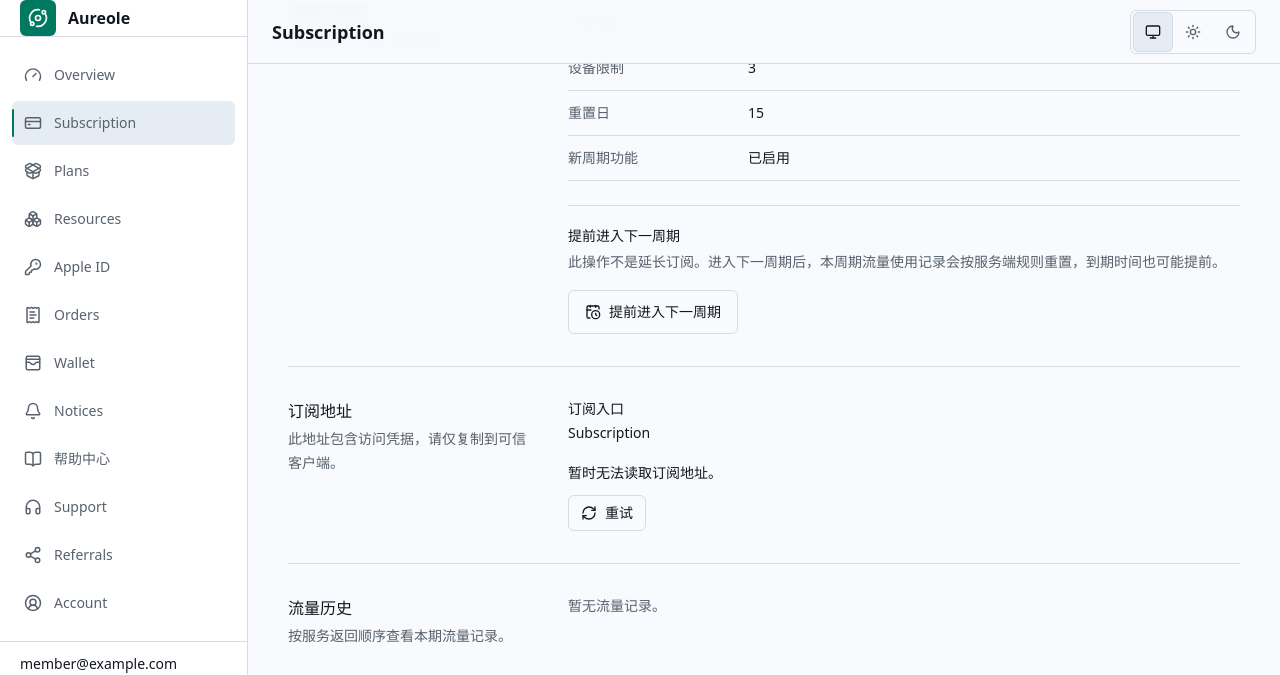
Test: Subscription page › keeps overview available when access fails and retries only access
(page scrolled)
Expected: the text "暂时无法读取订阅地址。" is shown, [568,463,722,482]
Click the button "重试". click: {"x": 607, "y": 513}
box: [568,495,646,531]
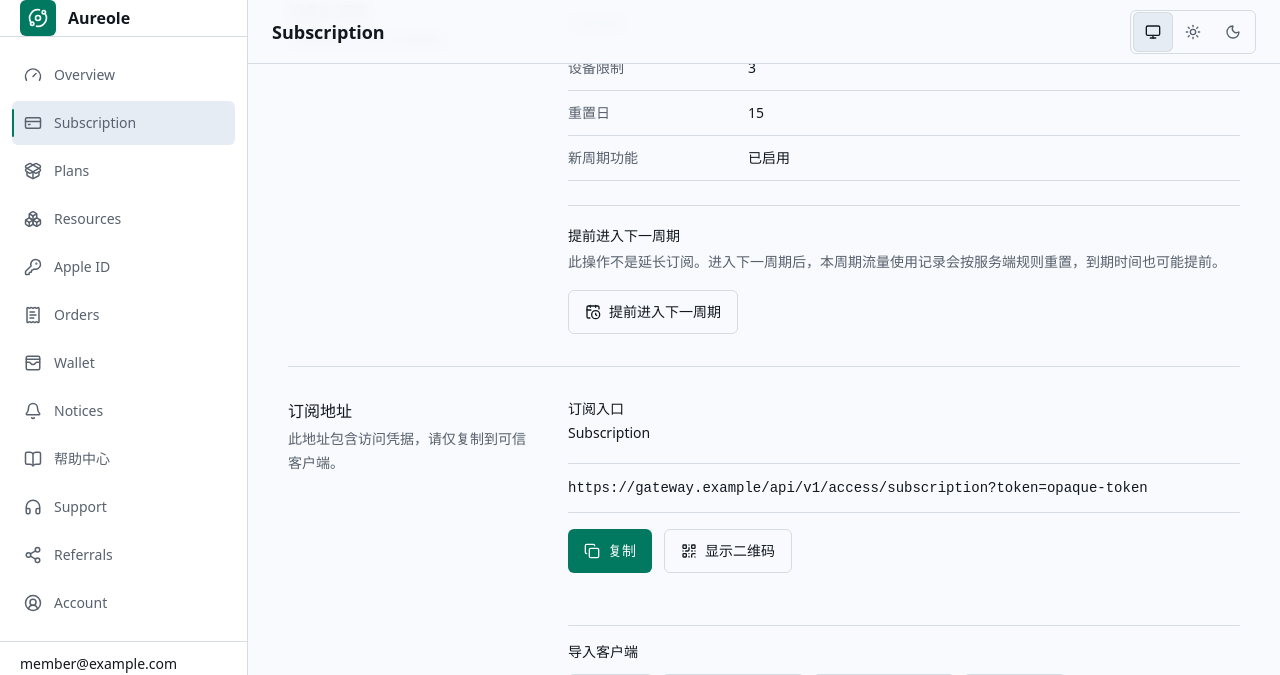
Expected: the text "https://gateway.example/api/v1/access/subscription?token=opaque-token" is shown, [568,476,1240,500]
